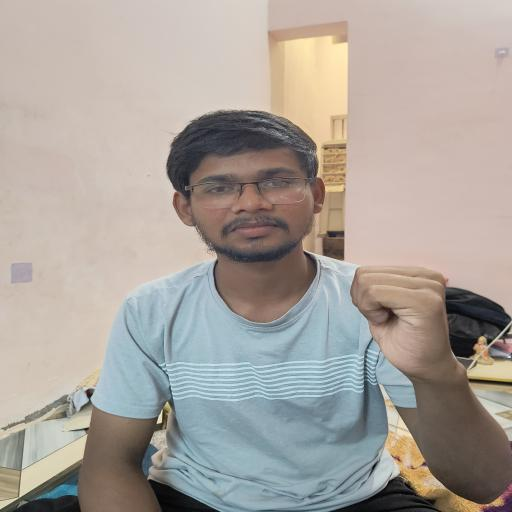wait: (335, 252, 496, 393)
